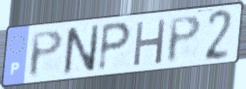2: (202, 6, 234, 66)
H: (131, 16, 169, 69)
N: (62, 22, 102, 78)
P: (95, 20, 134, 74), (28, 28, 65, 80), (166, 13, 203, 65)
